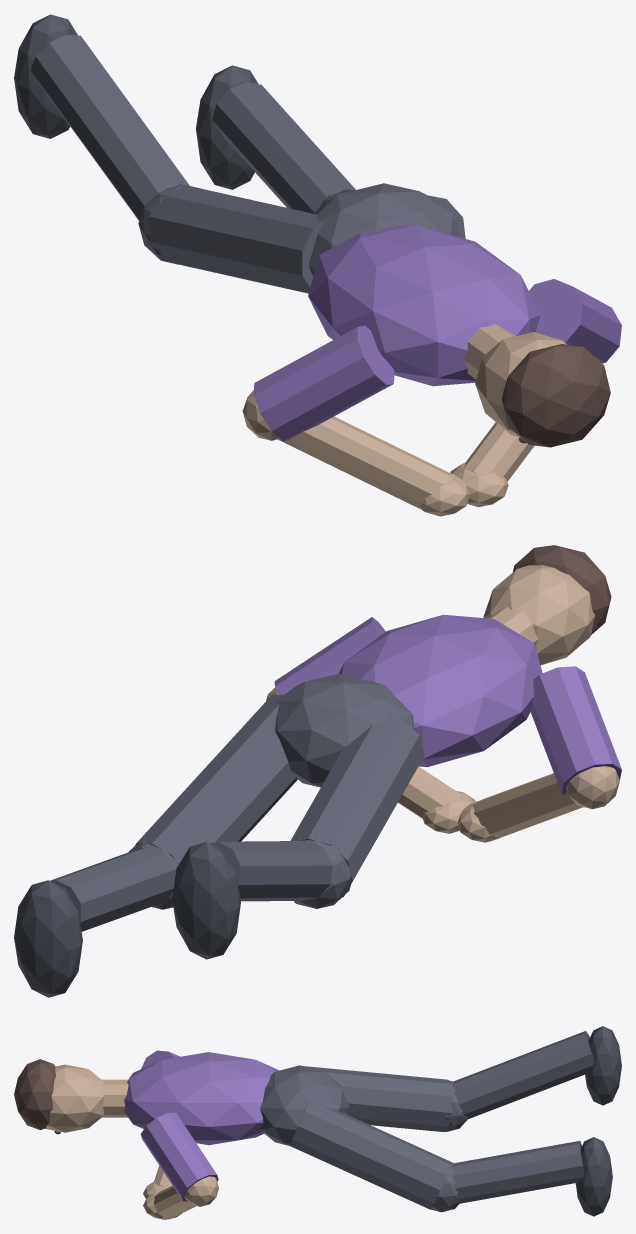
3 views of the same model, one above another, from view 1: azimuth 30°, elevation 25°; view 2: azimuth 150°, elevation 25°; view 3: azimuth 270°, elevation 25° (orthographic). The views are drawn at different scales.
Parts seen in each view (by area): view 1: world; view 2: world; view 3: world.
Part boxes in pixels (<box>): world: <box>14,14,621,516</box>; world: <box>14,545,621,997</box>; world: <box>14,1026,621,1219</box>.
Size of the model in its own units: 0.93 by 0.6213 by 2.07.
